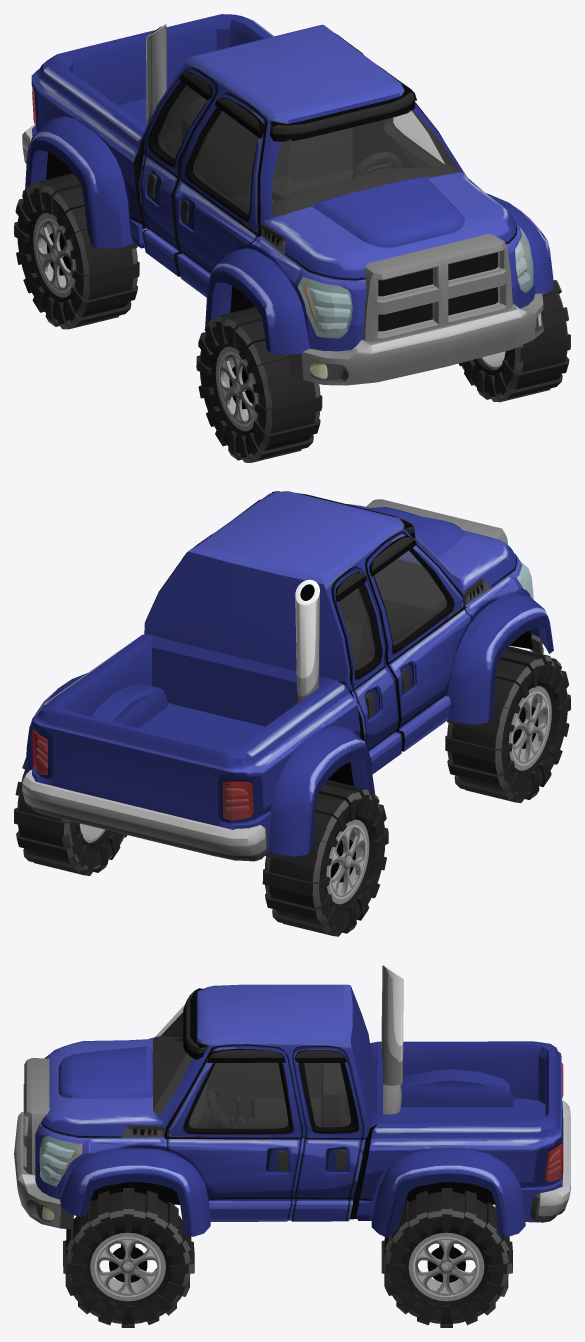
The model's file is hcr2_super_diesel.glb.
3 views of the same model, one above another, from view 1: azimuth 30°, elevation 25°; view 2: azimuth 150°, elevation 25°; view 3: azimuth 270°, elevation 25° (orthographic). The views are drawn at different scales.
Parts seen in each view (by area): view 1: HCR2_SD_Body_17, HCR2_SD_Windows_5, HCR2_SD_FR_Wheel_10, HCR2_SD_RR_Wheel_9, HCR2_SD_Grl_16, HCR2_SD_Front_Bumper_15, HCR2_SD_Interior_2, HCR2_SD_Seat_1, HCR2_SD_FL_Wheel_8, HCR2_SD_Details_13, HCR2_SD_LCover_6, HCR2_SD_Lights_3 (+3 smaller); view 2: HCR2_SD_Body_17, HCR2_SD_FR_Wheel_10, HCR2_SD_RR_Wheel_9, HCR2_SD_Rear_Bumper_14, HCR2_SD_Windows_5, HCR2_SD_Interior_2, HCR2_SD_RL_Wheel_7, HCR2_SD_Exhaust_12, HCR2_SD_Details_13, HCR2_SD_LCover_6, HCR2_SD_Lights_3, HCR2_SD_Grl_16 (+1 smaller); view 3: HCR2_SD_Body_17, HCR2_SD_FL_Wheel_8, HCR2_SD_RL_Wheel_7, HCR2_SD_Windows_5, HCR2_SD_Interior_2, HCR2_SD_Details_13, HCR2_SD_Exhaust_12, HCR2_SD_Seat_1, HCR2_SD_Grl_16, HCR2_SD_Front_Bumper_15, HCR2_SD_LCover_6, HCR2_SD_Lights_3 (+4 smaller).
Part boxes in pixels (x1,y1,x2,y2): HCR2_SD_Body_17: (25, 14, 553, 354); HCR2_SD_Windows_5: (158, 85, 458, 215); HCR2_SD_FR_Wheel_10: (196, 307, 322, 462); HCR2_SD_RR_Wheel_9: (14, 173, 139, 329); HCR2_SD_Grl_16: (363, 233, 512, 342); HCR2_SD_Front_Bumper_15: (288, 293, 543, 385); HCR2_SD_Interior_2: (158, 85, 458, 215); HCR2_SD_Seat_1: (181, 97, 353, 210); HCR2_SD_FL_Wheel_8: (459, 280, 570, 402); HCR2_SD_Details_13: (147, 46, 481, 254); HCR2_SD_LCover_6: (32, 87, 533, 338); HCR2_SD_Lights_3: (297, 230, 532, 338); HCR2_SD_Body_17: (25, 491, 553, 856); HCR2_SD_FR_Wheel_10: (445, 646, 570, 802); HCR2_SD_RR_Wheel_9: (262, 780, 388, 936); HCR2_SD_Rear_Bumper_14: (22, 770, 268, 861); HCR2_SD_Windows_5: (339, 534, 458, 669); HCR2_SD_Interior_2: (339, 559, 458, 670); HCR2_SD_RL_Wheel_7: (14, 757, 127, 875); HCR2_SD_Exhaust_12: (295, 579, 319, 702); HCR2_SD_Details_13: (182, 491, 490, 717); HCR2_SD_LCover_6: (32, 560, 533, 820); HCR2_SD_Lights_3: (34, 574, 525, 820); HCR2_SD_Grl_16: (366, 499, 507, 544); HCR2_SD_Body_17: (35, 984, 563, 1237); HCR2_SD_FL_Wheel_8: (63, 1188, 194, 1327); HCR2_SD_RL_Wheel_7: (381, 1188, 512, 1327); HCR2_SD_Windows_5: (153, 1005, 350, 1128); HCR2_SD_Interior_2: (153, 1012, 350, 1128); HCR2_SD_Details_13: (120, 988, 346, 1171); HCR2_SD_Exhaust_12: (381, 965, 403, 1114); HCR2_SD_Seat_1: (250, 1063, 344, 1126); HCR2_SD_Grl_16: (23, 1058, 49, 1174); HCR2_SD_Front_Bumper_15: (14, 1112, 73, 1229); HCR2_SD_LCover_6: (39, 1063, 563, 1186); HCR2_SD_Lights_3: (39, 1136, 560, 1186).
Size of the model in its own units: 2.63 by 2.53 by 4.78.
5 materials, 2 textured.
